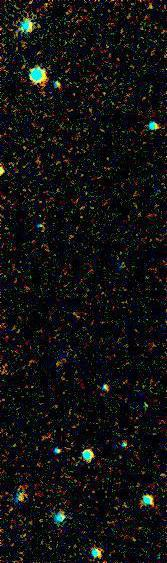star: (106, 441, 136, 471)
